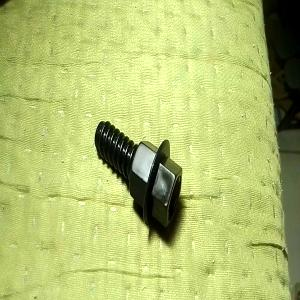parafuso: (94, 119, 183, 228)
